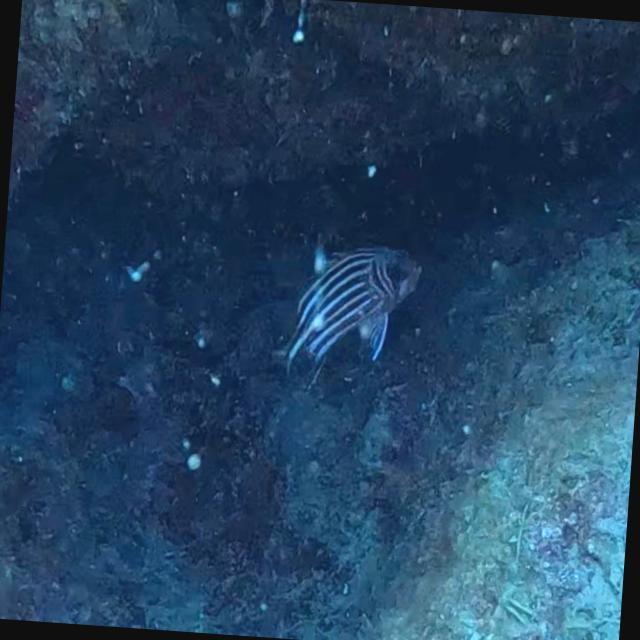Asker Baligi: (280, 236, 426, 397)
